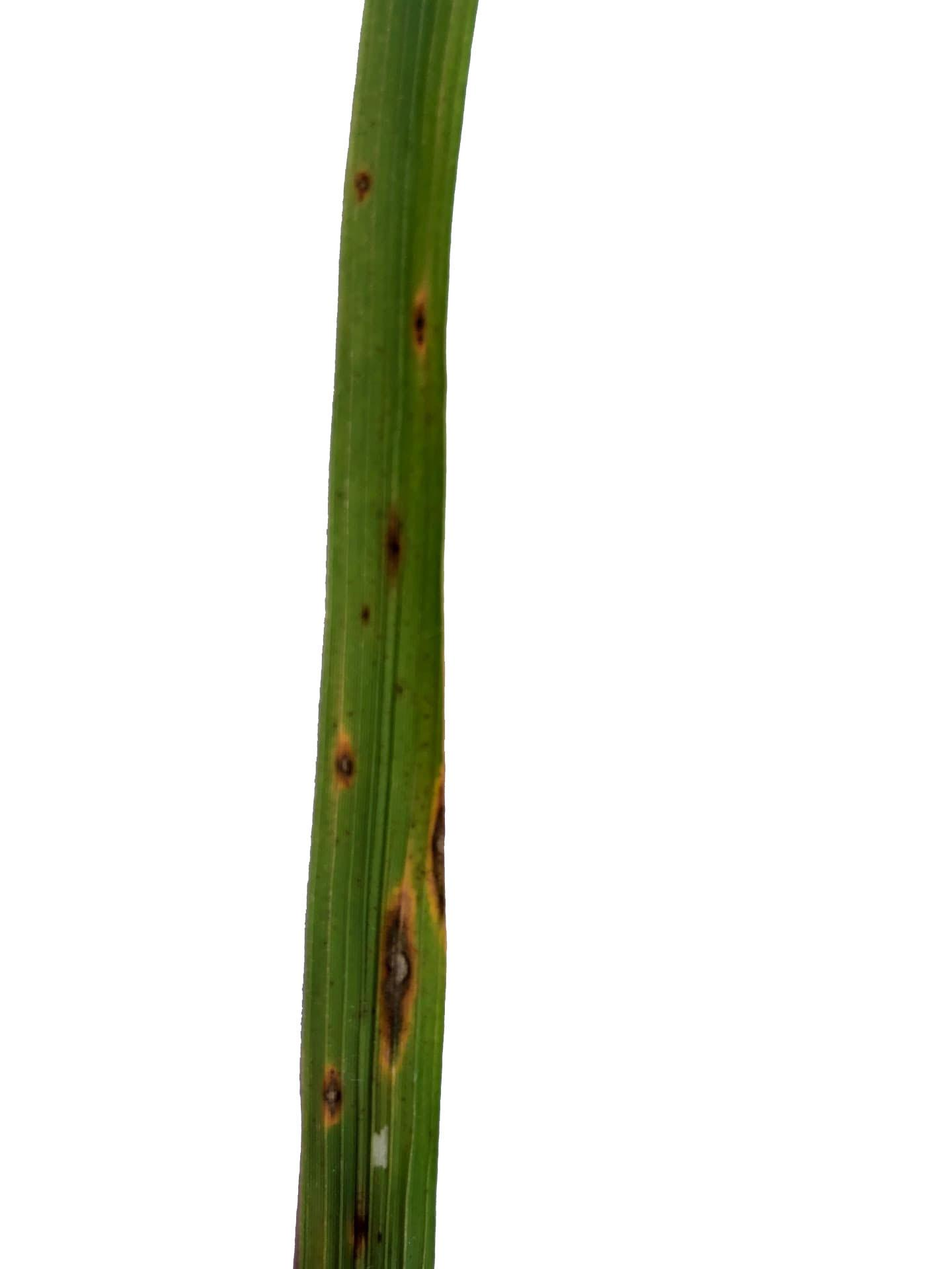Rice blast: (376, 894, 415, 1061), (378, 508, 425, 626), (421, 750, 448, 939), (338, 1181, 383, 1269), (408, 277, 432, 365), (312, 1069, 351, 1118), (352, 168, 388, 216), (336, 734, 362, 795)
